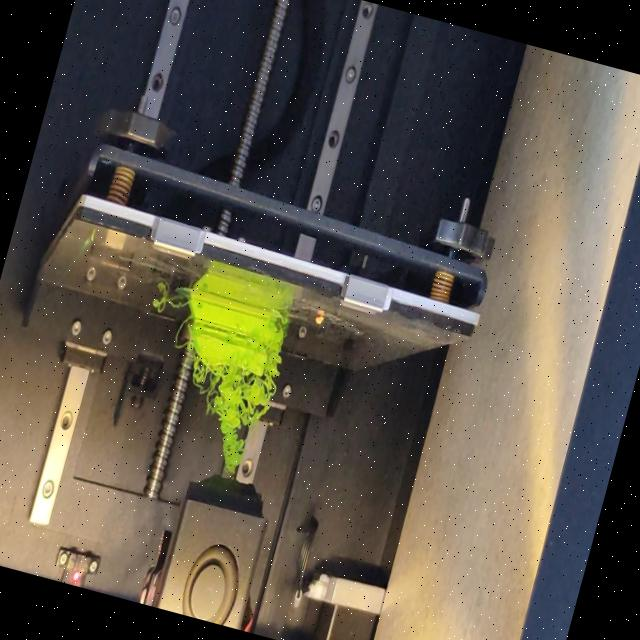spaghetti: (165, 356, 278, 482), (262, 310, 296, 378), (147, 286, 188, 319), (173, 316, 194, 350)
